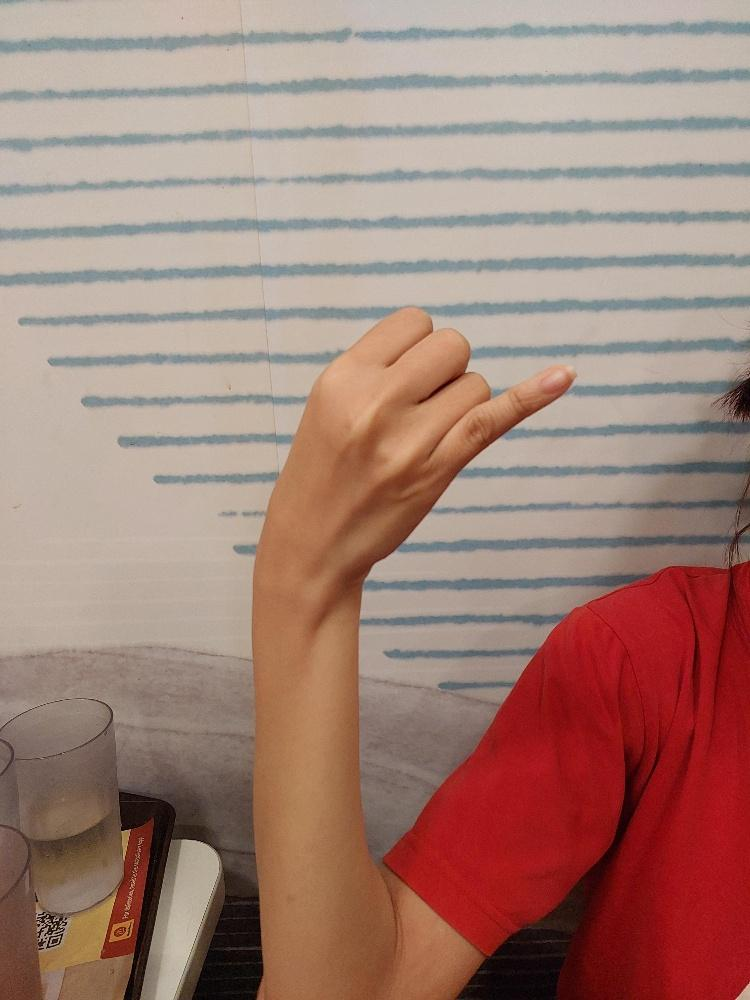j: (267, 304, 578, 589)
